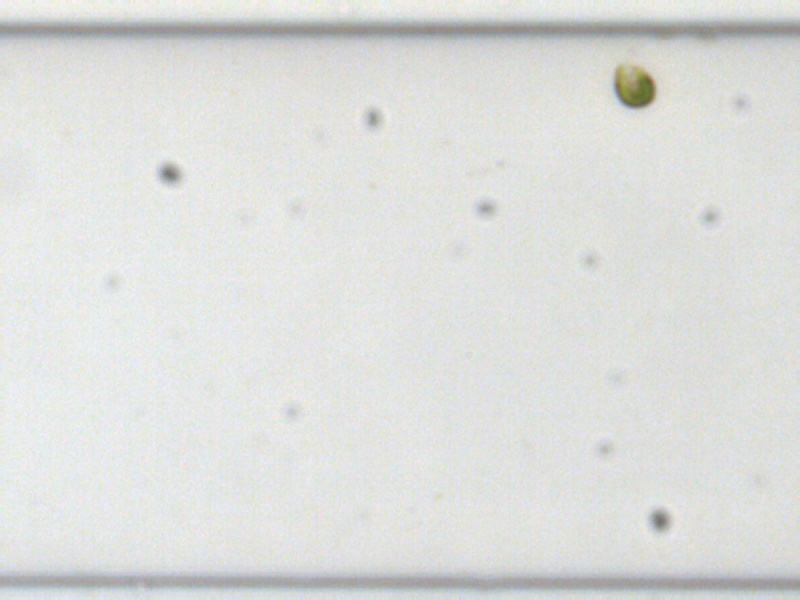Platymonas: (611, 60, 656, 110)
